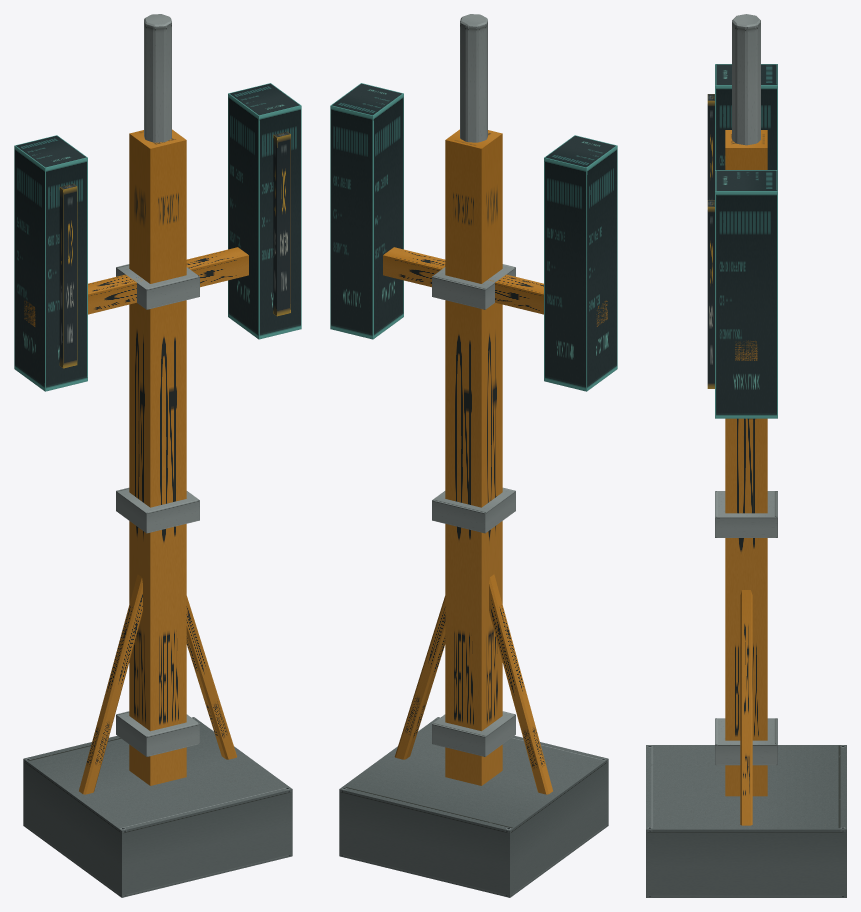
Rendered from relay_mast_LOD2.obj.
3 renders of one model, left to right at view 1: azimuth 30°, elevation 25°; view 2: azimuth 150°, elevation 25°; view 3: azimuth 270°, elevation 25°, orthographic.
Parts seen in each view (by area): view 1: L02_relay_mast_LOD2; view 2: L02_relay_mast_LOD2; view 3: L02_relay_mast_LOD2.
Part boxes in pixels (x1,y1,x2,y2): L02_relay_mast_LOD2: (14, 14, 301, 897); L02_relay_mast_LOD2: (330, 14, 617, 897); L02_relay_mast_LOD2: (646, 14, 846, 897).
Size of the model in its own units: 2.4 by 7.35 by 1.6.
Materials: 1 (1 with a texture image).
